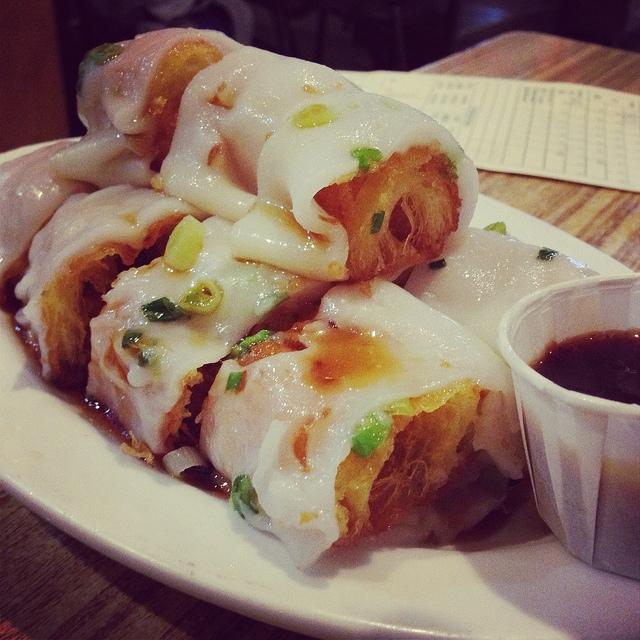green onion: (351, 402, 395, 459), (164, 215, 206, 271), (177, 280, 224, 318), (162, 446, 208, 476), (229, 474, 259, 518), (140, 296, 186, 322), (232, 330, 276, 355), (292, 104, 336, 128), (349, 146, 384, 173), (88, 42, 124, 65), (121, 330, 144, 349), (226, 372, 244, 391), (484, 222, 505, 236), (137, 352, 150, 367)
